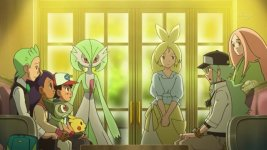gardevoir: (62, 36, 121, 146)
pikachu: (64, 113, 87, 134)
